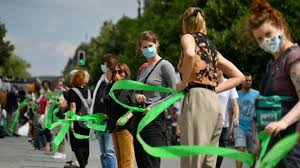with_mask: (249, 22, 290, 54), (138, 38, 159, 59), (111, 68, 129, 82)
